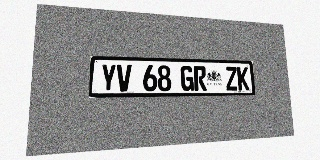6: (143, 65, 157, 91)
8: (157, 65, 171, 91)
G: (180, 66, 194, 91)
K: (237, 67, 249, 90)
R: (193, 66, 207, 91)
V: (116, 64, 132, 92)
Y: (100, 64, 116, 92)
Z: (225, 67, 238, 90)
